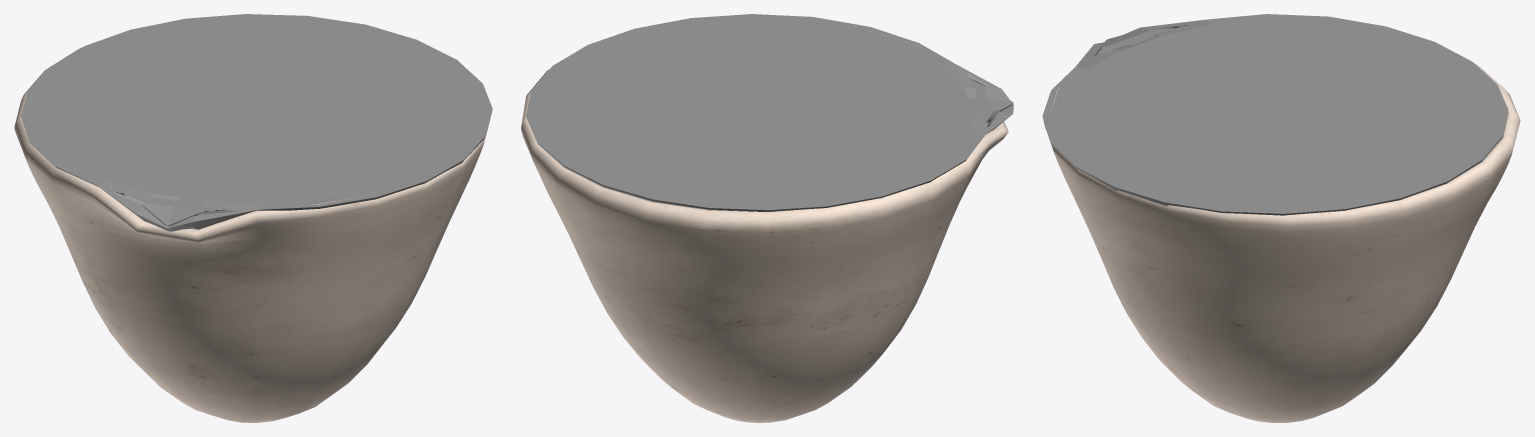
3 renders of one model, left to right at view 1: azimuth 30°, elevation 25°; view 2: azimuth 150°, elevation 25°; view 3: azimuth 270°, elevation 25°, orthographic.
Visible parts, largest first — view 1: Object001, 301, Inner; view 2: Object001, 301, Inner; view 3: Object001, 301, Inner.
Boxes of the visible parts, bbox=[...] form: Object001: bbox=[21, 14, 492, 231]; 301: bbox=[14, 48, 485, 422]; Inner: bbox=[113, 192, 373, 228]; Object001: bbox=[526, 14, 1013, 211]; 301: bbox=[521, 44, 1008, 422]; Inner: bbox=[541, 29, 1013, 211]; Object001: bbox=[1042, 14, 1508, 215]; 301: bbox=[1043, 64, 1520, 422]; Inner: bbox=[1050, 24, 1508, 178].
Size of the model in its own units: 139 by 96.47 by 139.
2 materials, 1 textured.
